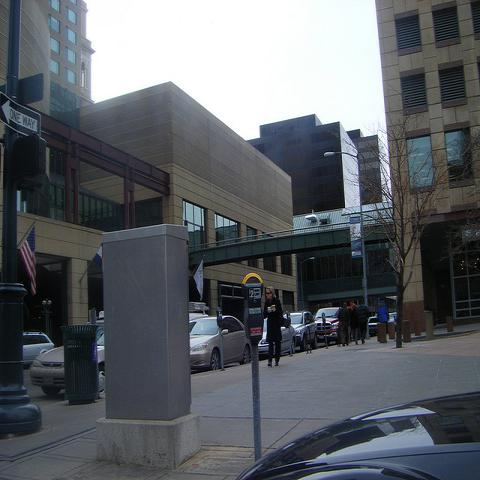car: (238, 389, 480, 475), (30, 320, 105, 395), (190, 316, 252, 371), (258, 316, 297, 358), (283, 312, 318, 350), (23, 332, 56, 372), (189, 302, 211, 321), (368, 317, 378, 334)
truck: (315, 307, 341, 345)
